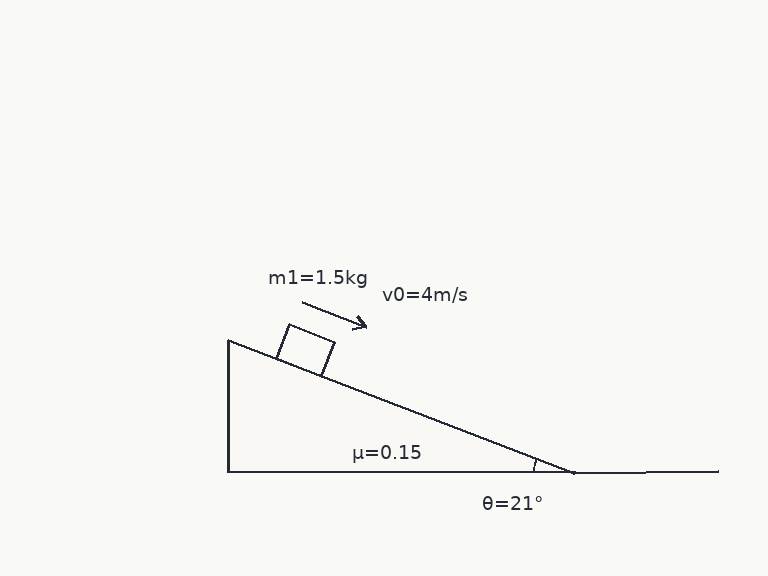block: (274, 322, 336, 377)
ramp: (227, 337, 576, 474)
